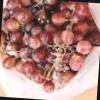Grape Rotten: (0, 0, 100, 95)
